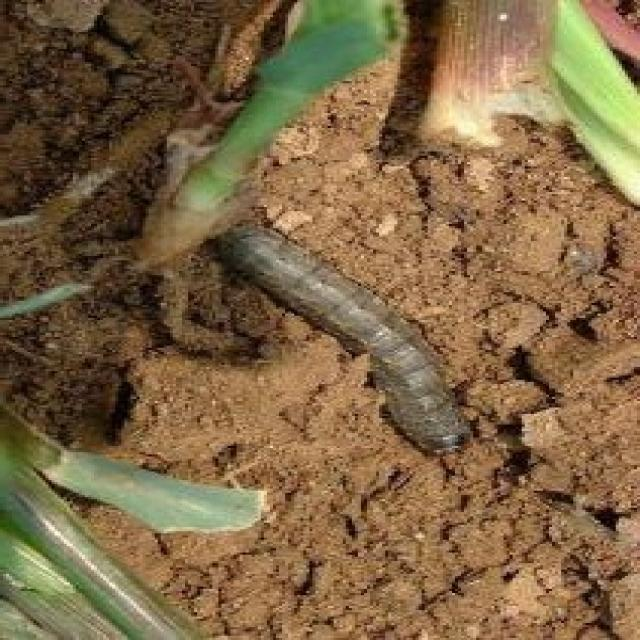black cutworm: (226, 223, 481, 462)
